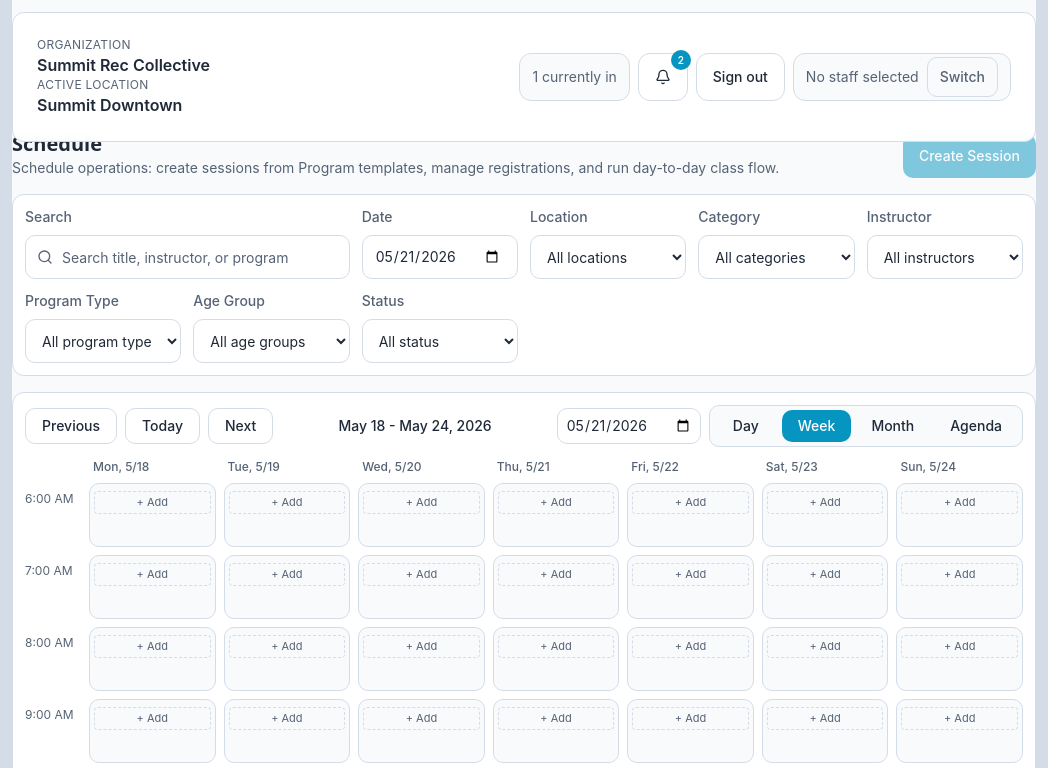
Scenario: Calendar interactive workstation › month view starts on the first day of the selected month
This screenshot has width=1048, height=768.
Step 1. Type "2026-04-15" into the date field named "Calendar jump date" → {"x": 629, "y": 426}, box [557,408,701,444]
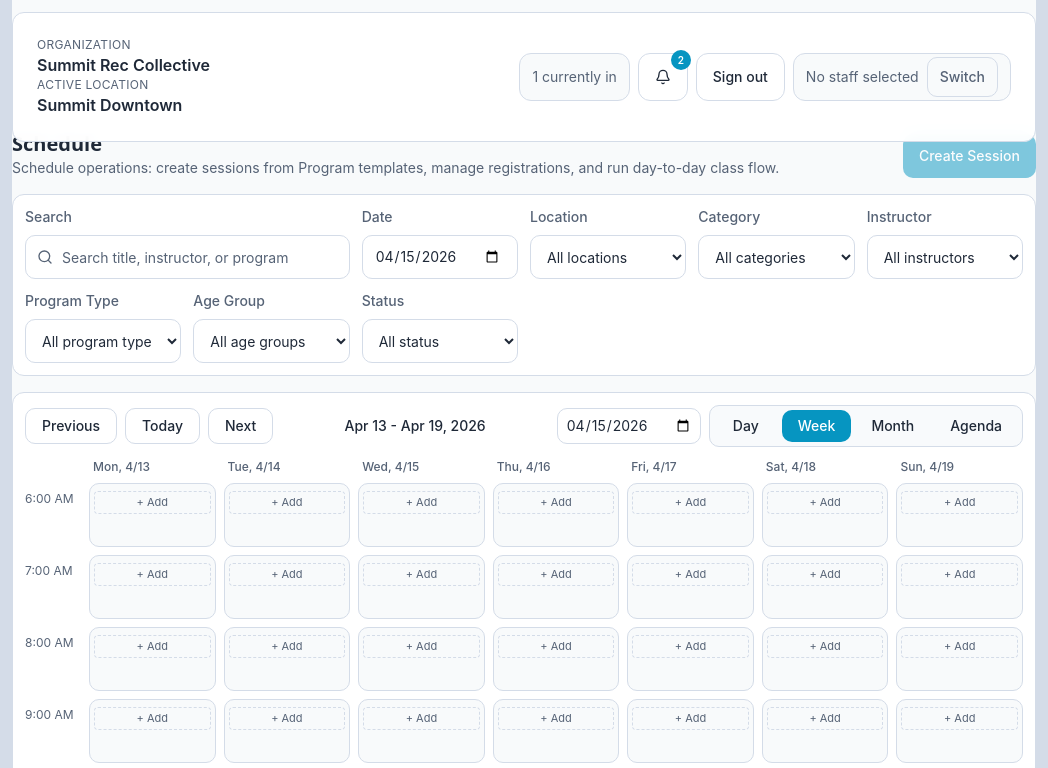
Step 2. Click the button "Month" → {"x": 893, "y": 426}, box [855,410,930,442]
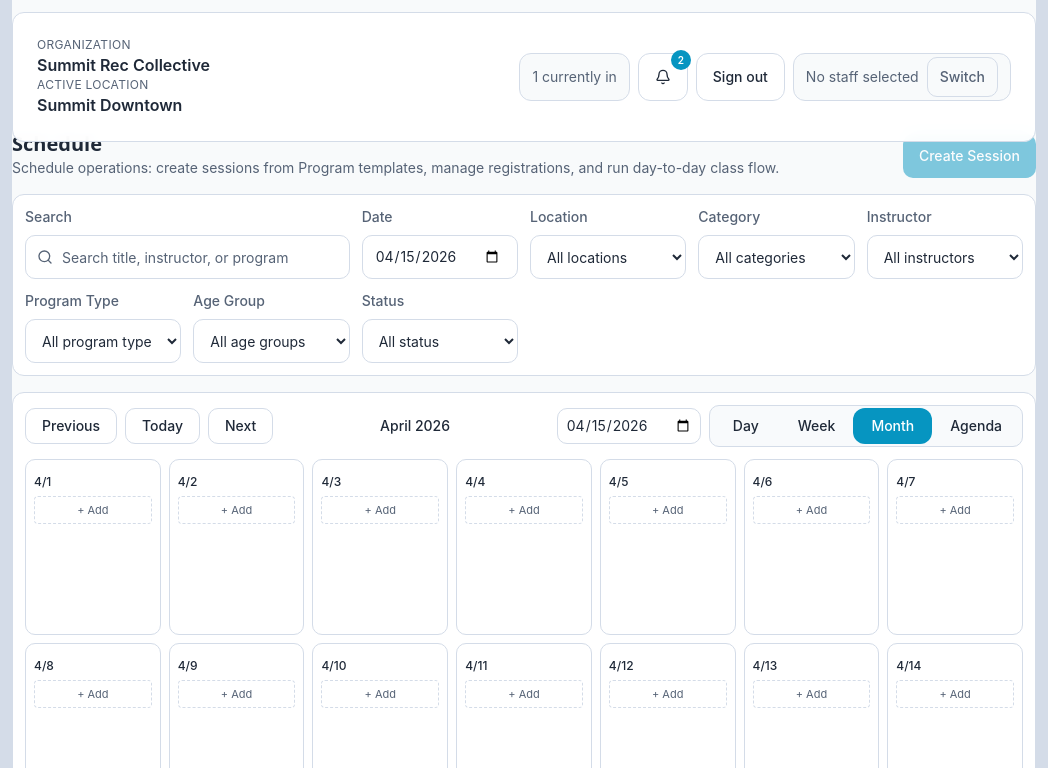
expect the element with test id "calendar-date-cell-2026-04-01" is shown: met, box [25,459,161,635]
expect the button named "View agenda for April 1, 2026" is shown: met, box [34,474,51,490]
